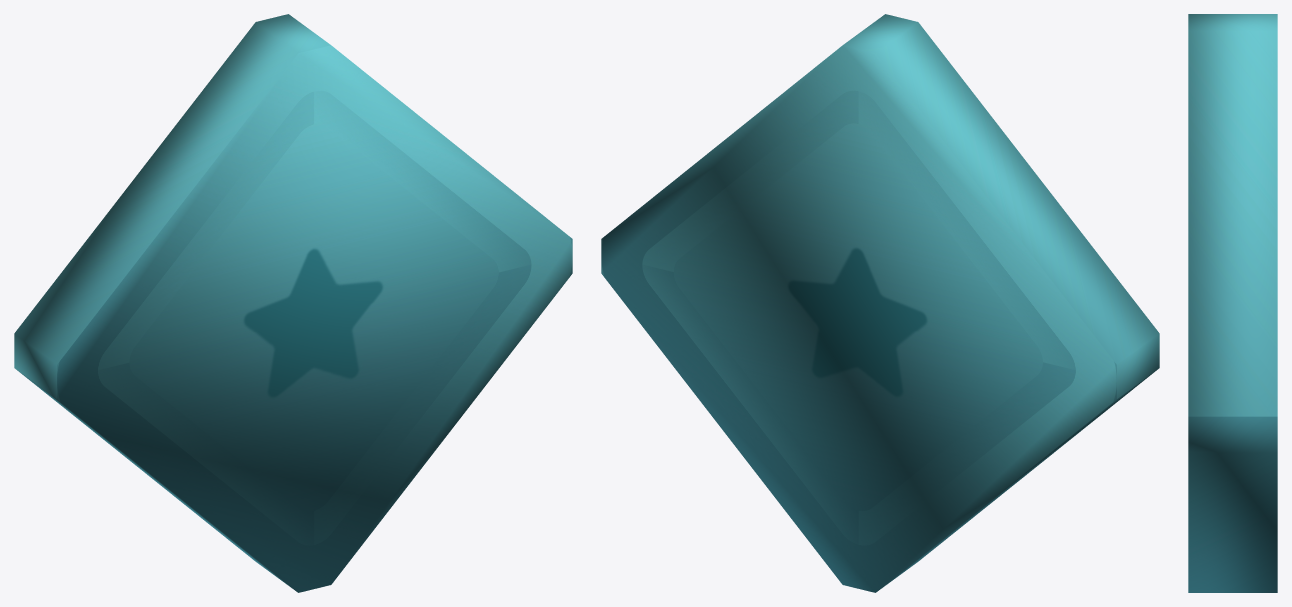
File: coin.FBX
3 views of the same model, side by side, from view 1: azimuth 30°, elevation 25°; view 2: azimuth 150°, elevation 25°; view 3: azimuth 270°, elevation 25° (orthographic). The views are drawn at different scales.
Visible parts, largest first — view 1: coin; view 2: coin; view 3: coin.
Boxes of the visible parts, box(x1,y1,x2,y2) form: coin: box(14, 14, 572, 592); coin: box(601, 14, 1159, 592); coin: box(1188, 14, 1277, 592).
Size of the model in its own units: 51.42 by 51.42 by 7.38.
